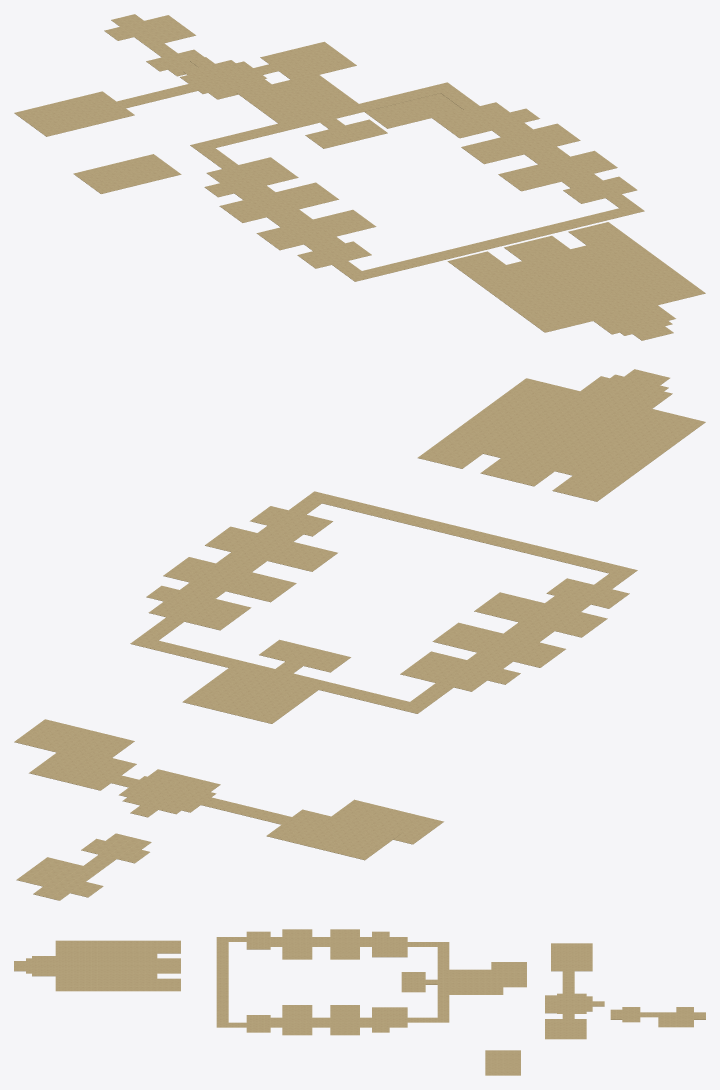
File: F3PS_Level_ground.fbx
3 renders of one model, top to bottom at view 1: azimuth 30°, elevation 25°; view 2: azimuth 150°, elevation 25°; view 3: azimuth 270°, elevation 25°, orthographic. The views are drawn at different scales.
Visible parts, largest first — view 1: ground; view 2: ground; view 3: ground.
Boxes of the visible parts, x1,y1,x2,y2 form: ground: (14,14,705,340); ground: (14,369,705,900); ground: (14,929,705,1075).
Size of the model in its own units: 13800 by 3007 by 34800.
